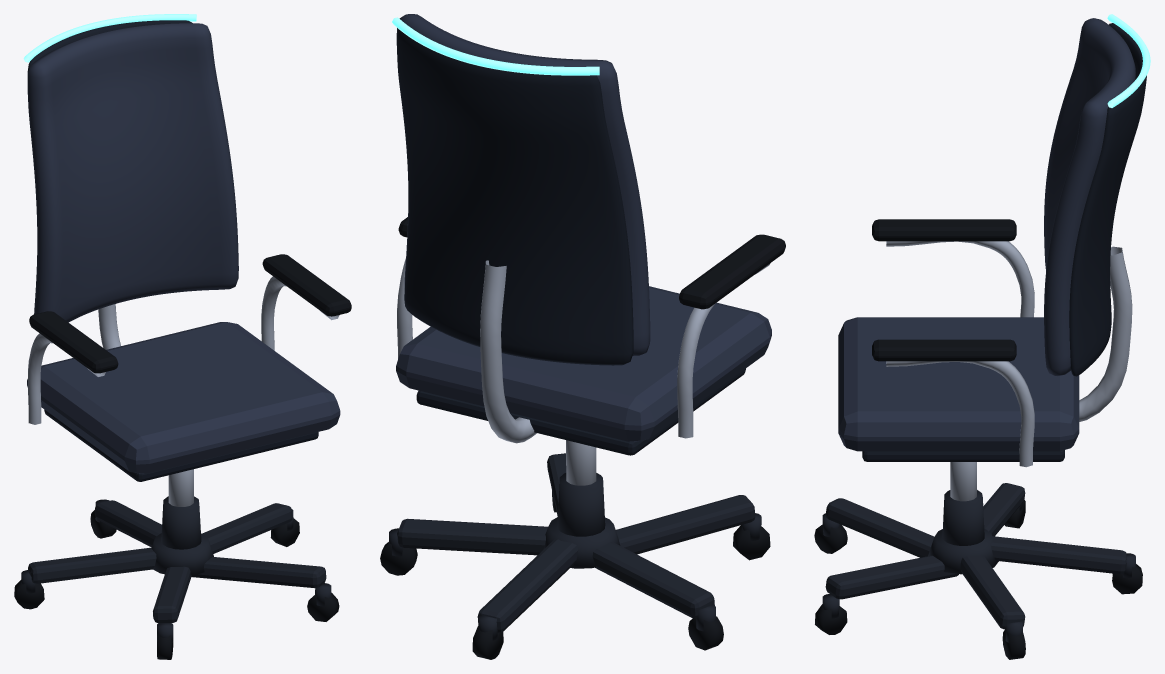
The model's file is chair.glb.
3 views of the same model, side by side, from view 1: azimuth 30°, elevation 25°; view 2: azimuth 150°, elevation 25°; view 3: azimuth 270°, elevation 25° (orthographic). The views are drawn at different scales.
Parts seen in each view (by area): view 1: chair; view 2: chair; view 3: chair.
Part boxes in pixels (x1=…): chair: x1=14, y1=14, x2=351, y2=659; chair: x1=380, y1=14, x2=785, y2=659; chair: x1=814, y1=14, x2=1150, y2=659.
Bounding box in the file's own units: 0.7158 × 1.22 × 0.6978.
